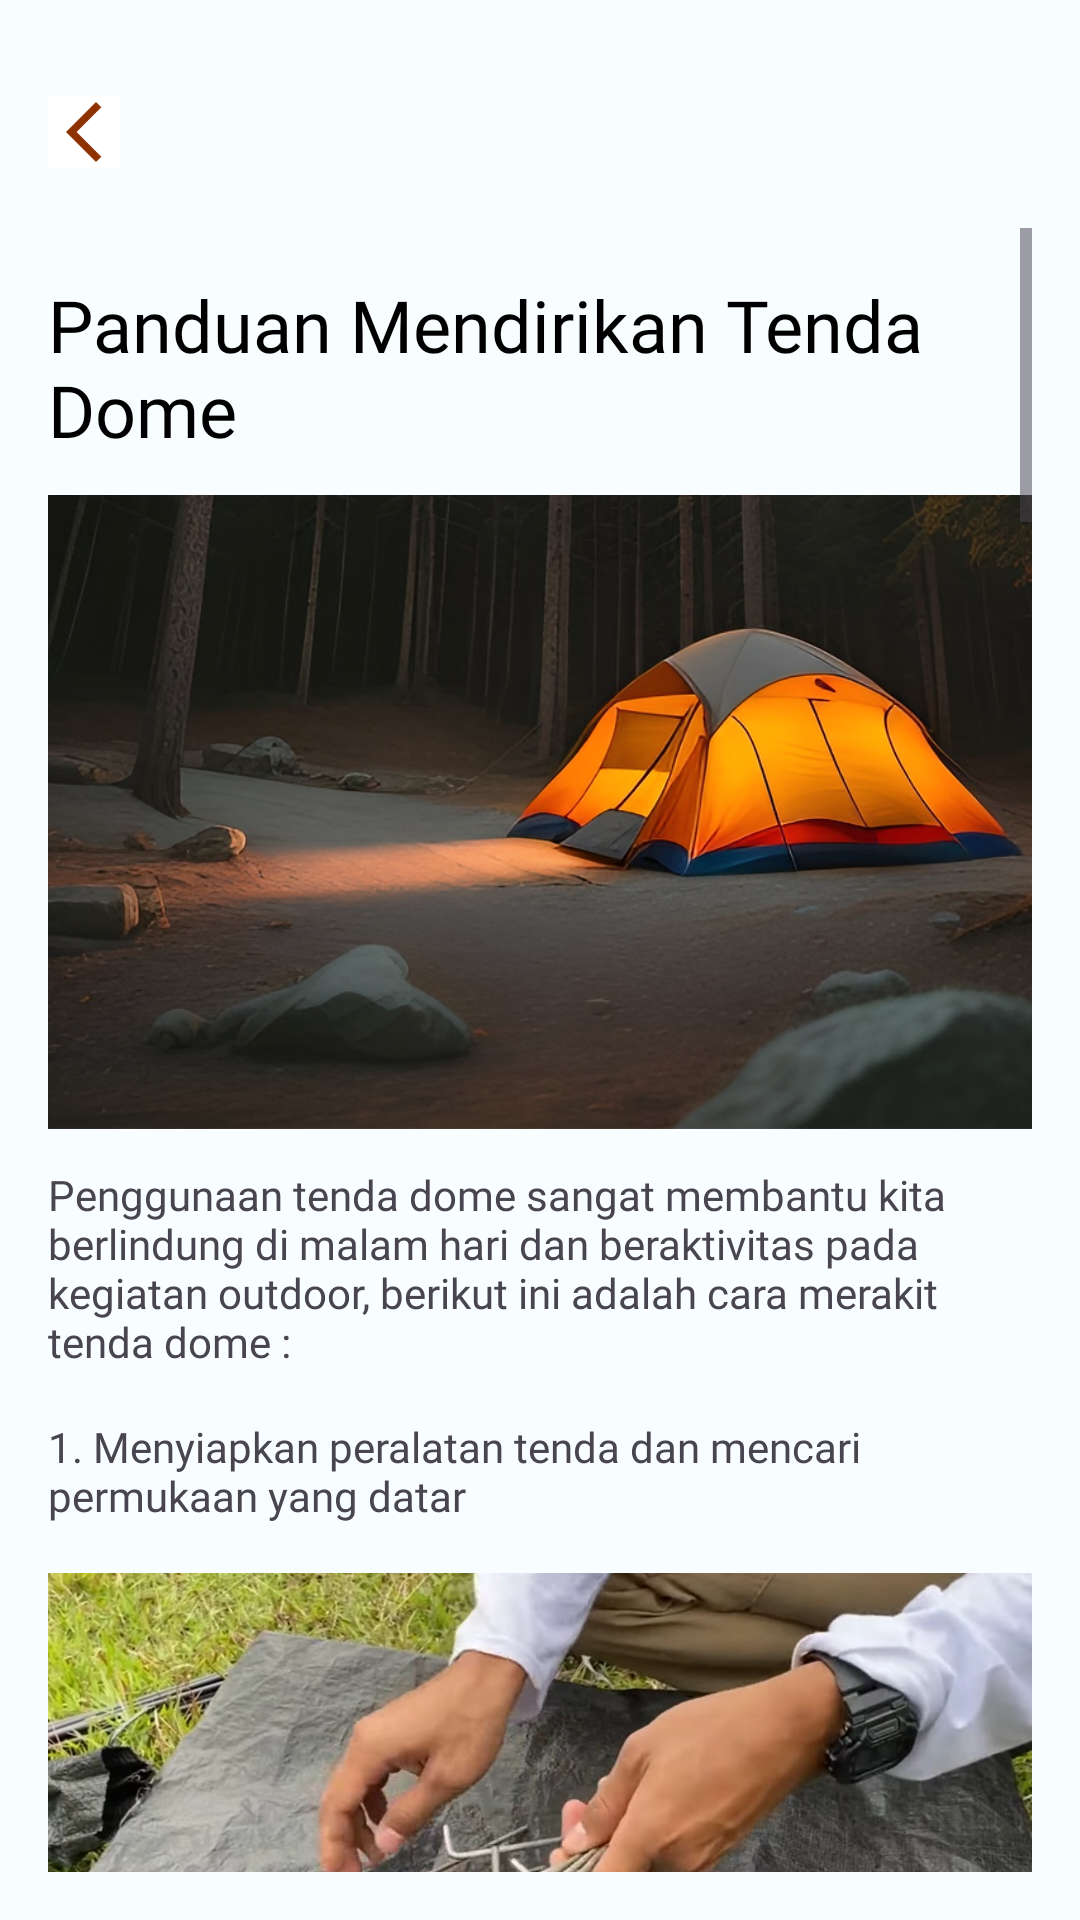

Where to tap for icons on this 1080×1920 app screen, as (x,y):
back: (83,132)
